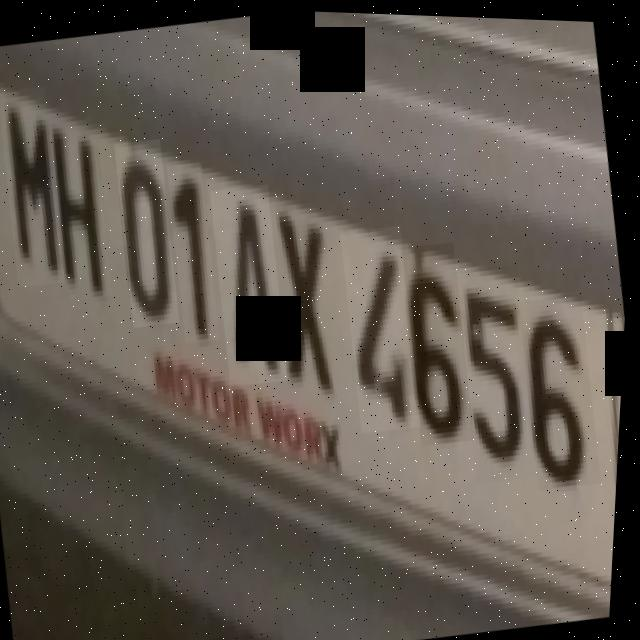0: (108, 136, 191, 328)
1: (162, 160, 230, 345)
4: (334, 221, 434, 432)
5: (449, 259, 552, 482)
6: (514, 288, 613, 488), (395, 237, 487, 444)
A: (204, 181, 300, 386)
H: (44, 114, 124, 301)
M: (0, 85, 76, 289)
X: (262, 183, 363, 401)
